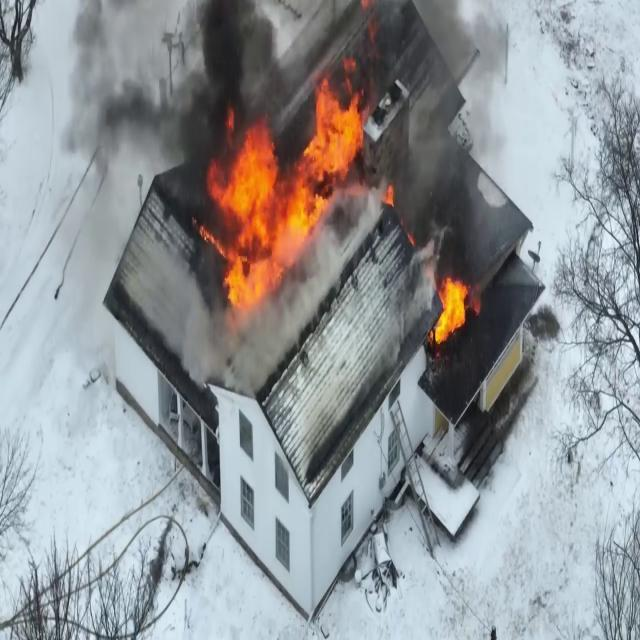Fire: (204, 70, 366, 318), (428, 263, 476, 351)
Smoke: (48, 0, 312, 186), (393, 72, 485, 258)
